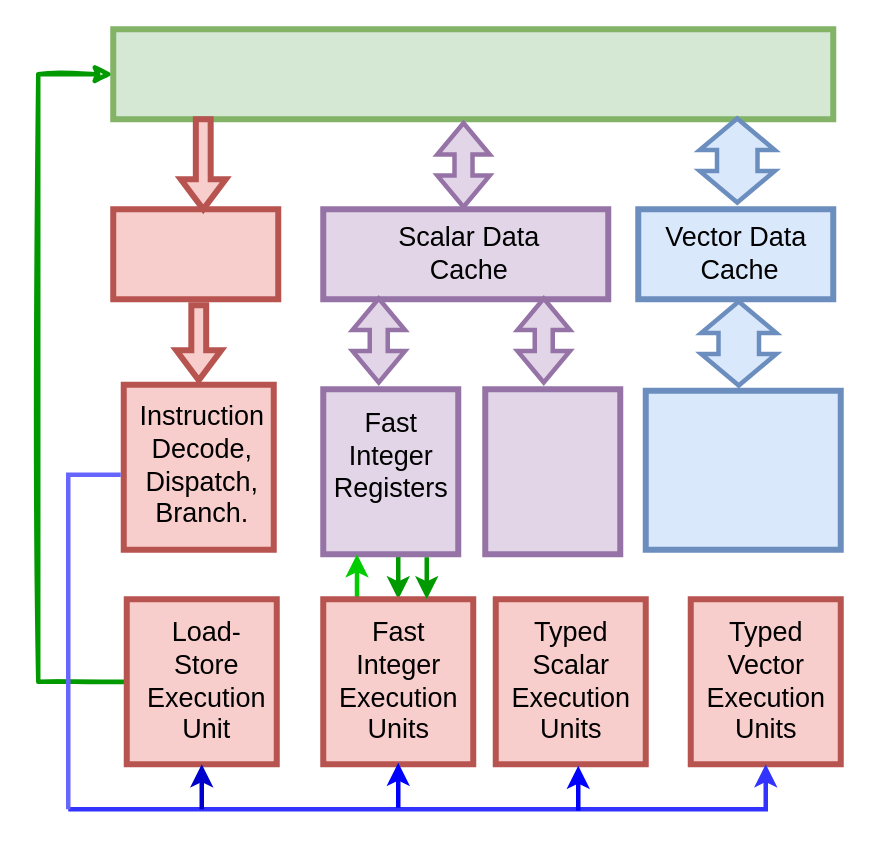
The diagram is 870 pixels wide and 851 high, and some of its shapes have lost their labels. Each missing label, with the centre of its shape:
Instruction Cache: point (195, 254)
Main Memory (RAM): point (473, 74)
Typed Scalar Registers: point (552, 471)
Typed Vector Registers: point (742, 469)
